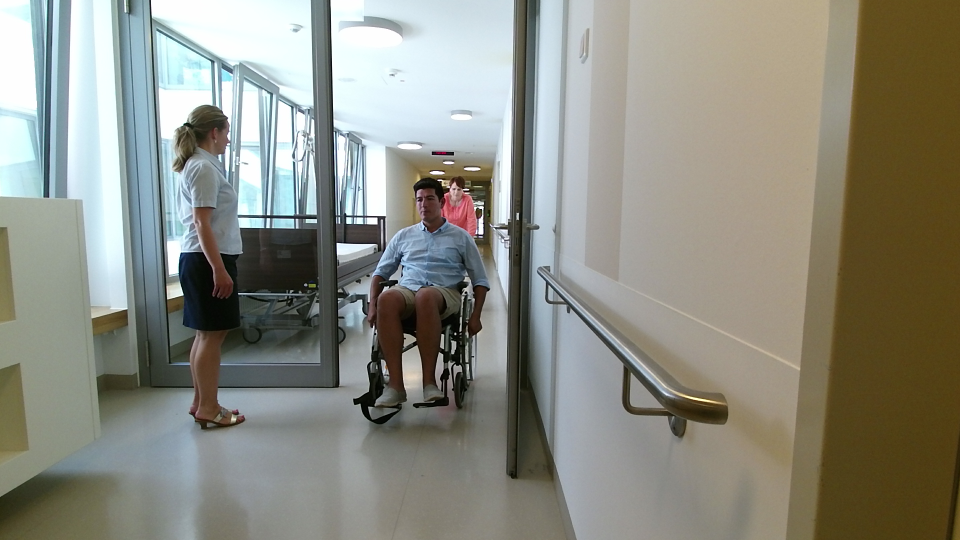wheelchair: (345, 177, 486, 420)
